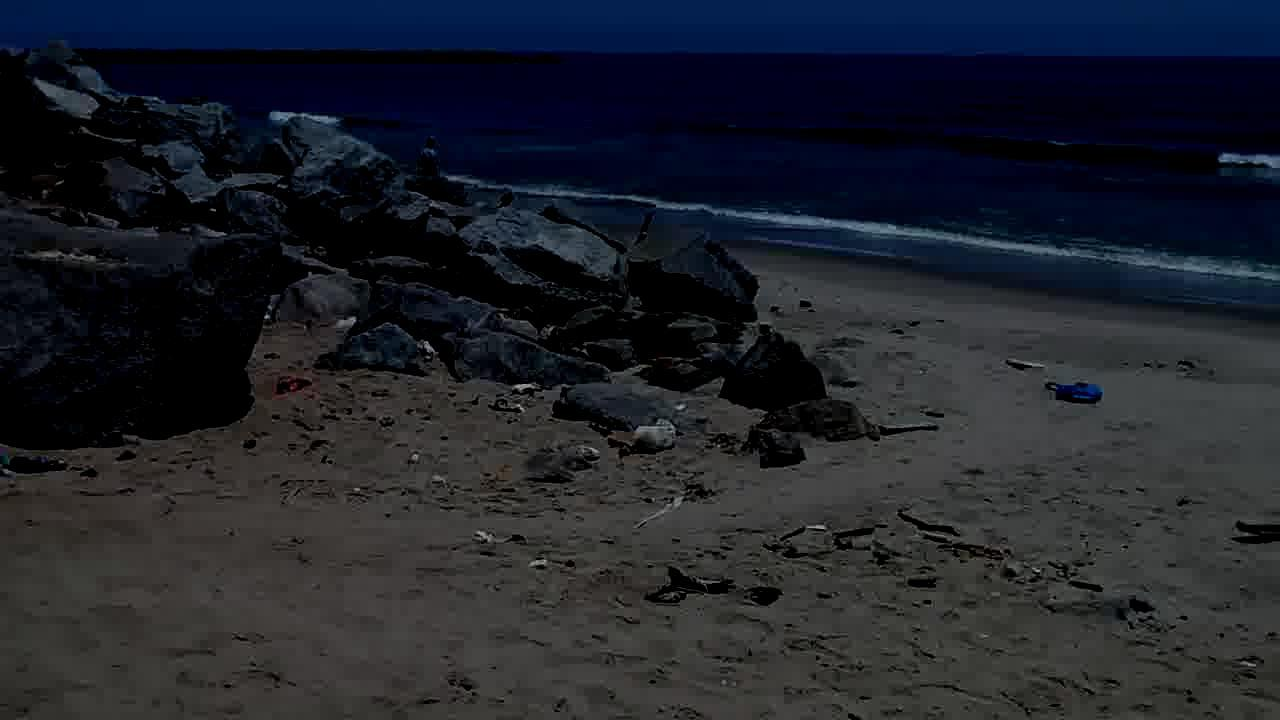large collection of objects: (416, 134, 444, 176)
obj: (898, 507, 1014, 564), (654, 562, 789, 604), (640, 490, 688, 533), (621, 421, 682, 454), (1042, 376, 1106, 406), (900, 508, 964, 534), (7, 453, 79, 474), (1068, 570, 1110, 593), (1234, 521, 1279, 540), (276, 374, 312, 396), (476, 534, 528, 542), (910, 572, 936, 586), (530, 554, 549, 566), (918, 586, 926, 588)
sand/background: (0, 0, 1279, 467)
